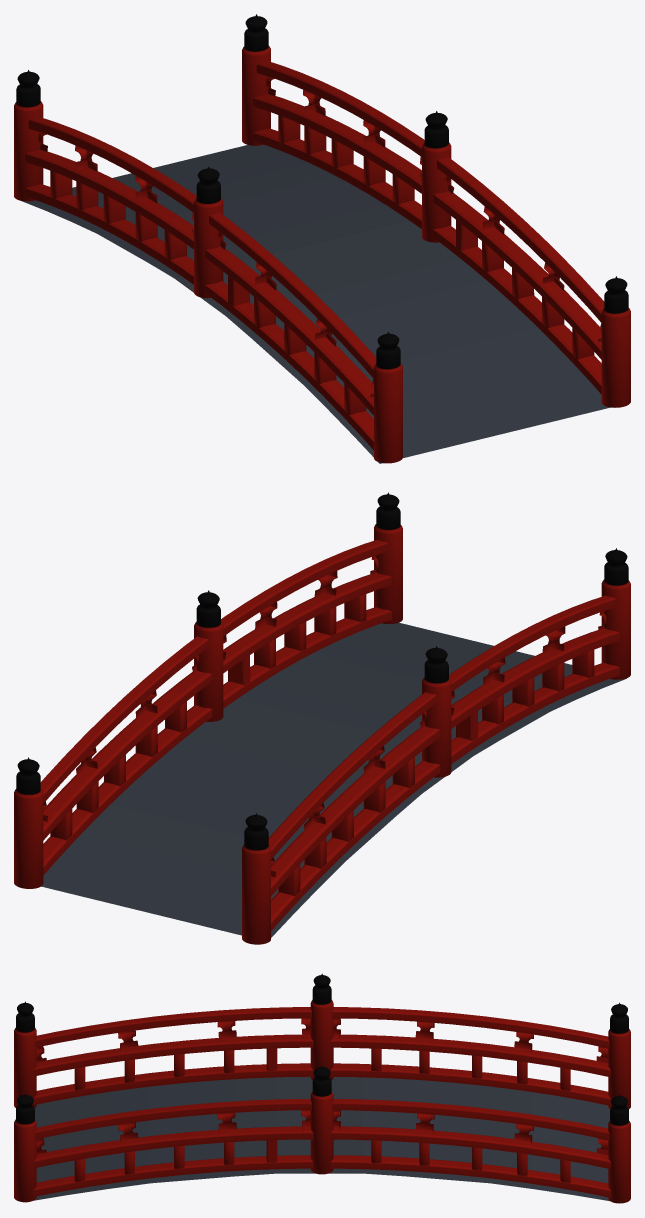
File: bridge.fbx
3 views of the same model, one above another, from view 1: azimuth 30°, elevation 25°; view 2: azimuth 150°, elevation 25°; view 3: azimuth 270°, elevation 25° (orthographic). The views are drawn at different scales.
Parts seen in each view (by area): view 1: path, Cube.050, Cube.036; view 2: path, Cube.050, Cube.036; view 3: Cube.050, Cube.036, path.
Part boxes in pixels (x1,y1,x2,y2): path: [22, 144, 610, 463]; Cube.050: [242, 14, 630, 407]; Cube.036: [14, 70, 402, 463]; path: [41, 622, 626, 937]; Cube.050: [14, 492, 402, 888]; Cube.036: [242, 548, 630, 944]; Cube.050: [14, 1065, 630, 1203]; Cube.036: [14, 973, 630, 1108]; path: [34, 1076, 610, 1200].
Size of the model in its own units: 2068 by 1266 by 5272.
